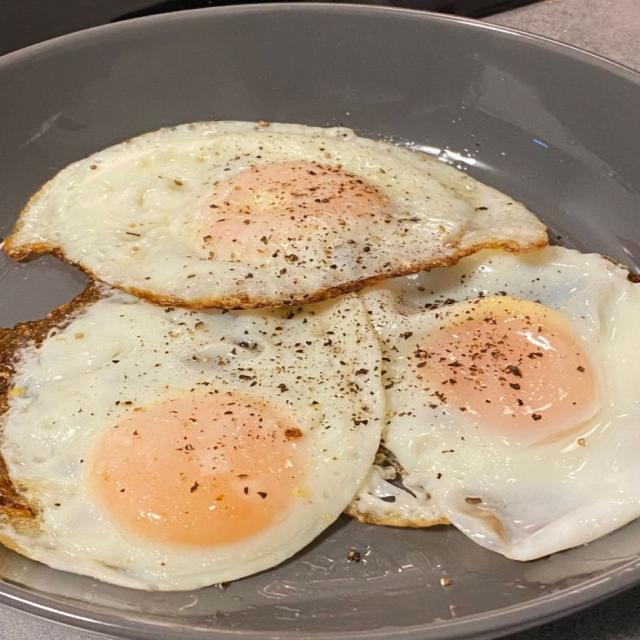fryed egg: (0, 290, 383, 589), (5, 122, 546, 307), (349, 247, 639, 560)
